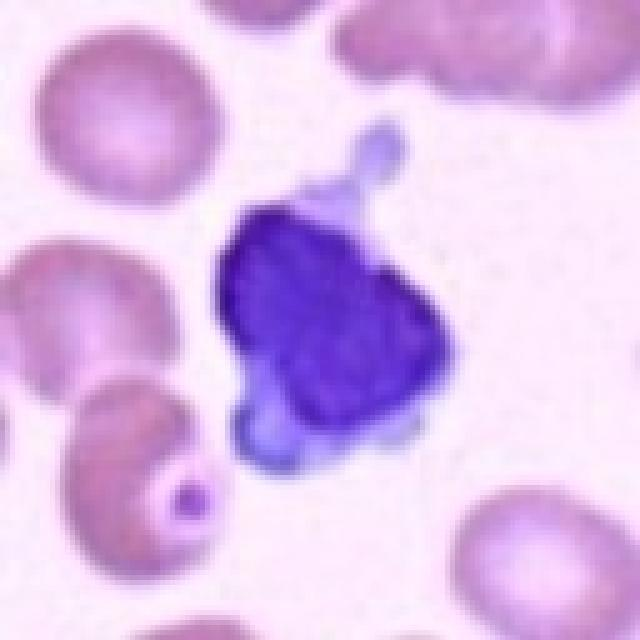lympho: (213, 108, 458, 500)
